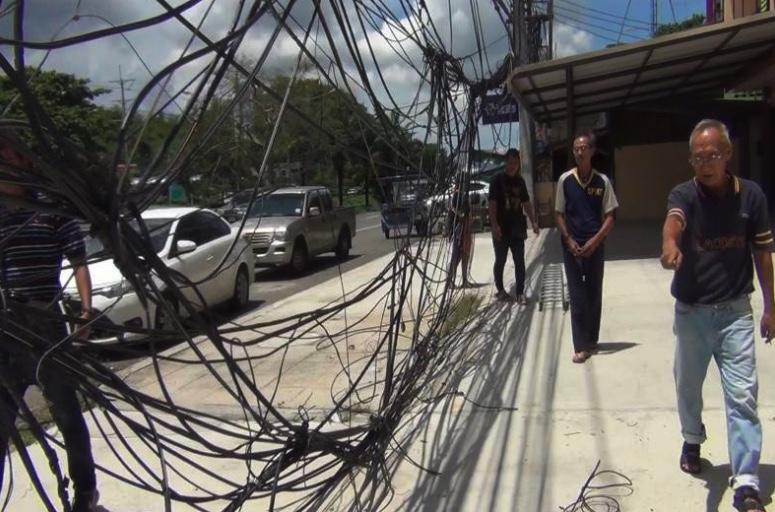wires: (126, 0, 486, 512)
